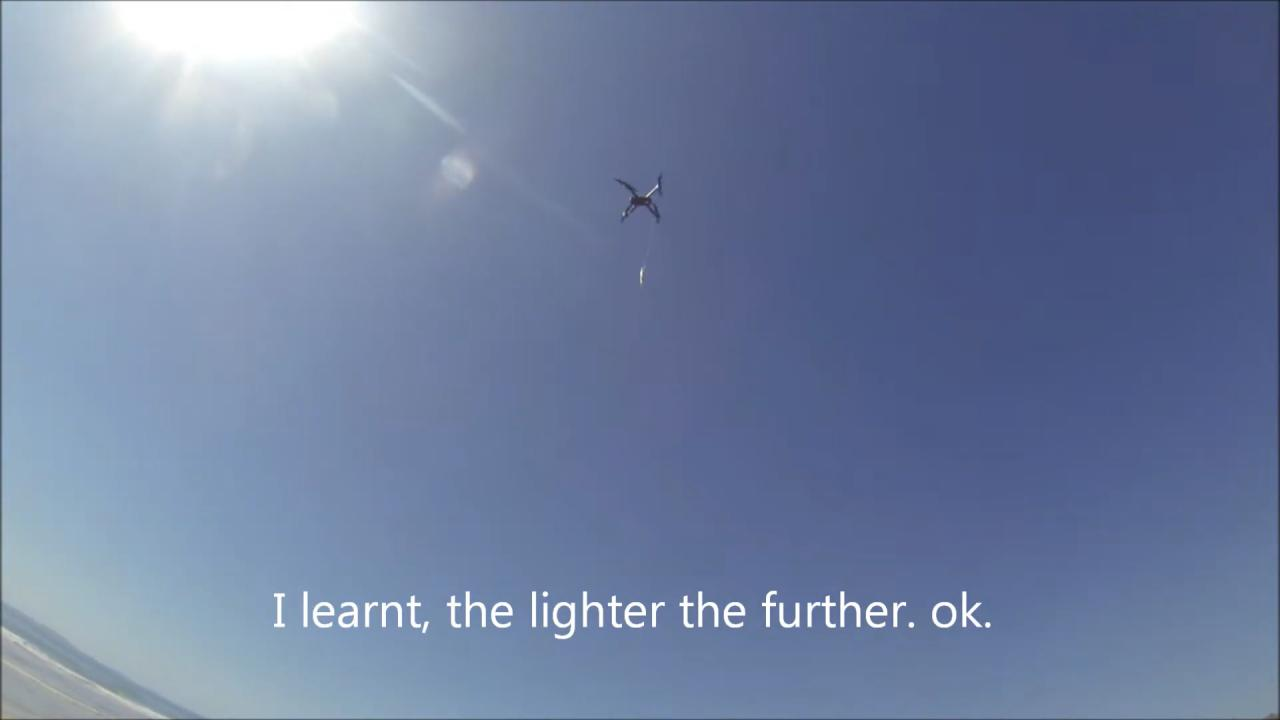Drone: (602, 162, 682, 236)
